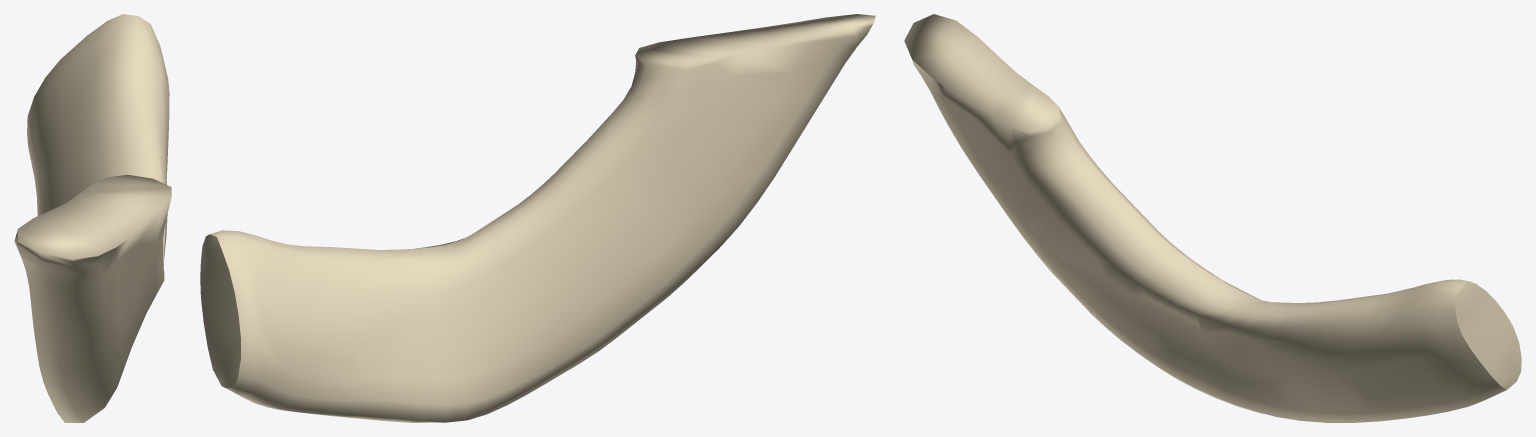
File: esqueleto-costal-cartilage-of-tenth-rib-l.glb
3 views of the same model, side by side, from view 1: azimuth 30°, elevation 25°; view 2: azimuth 150°, elevation 25°; view 3: azimuth 270°, elevation 25° (orthographic). The views are drawn at different scales.
Visible parts, largest first — view 1: Costal cartilage of tenth rib.l; view 2: Costal cartilage of tenth rib.l; view 3: Costal cartilage of tenth rib.l.
Part boxes in pixels (x1,y1,x2,y2): Costal cartilage of tenth rib.l: [14, 14, 171, 422]; Costal cartilage of tenth rib.l: [200, 14, 875, 422]; Costal cartilage of tenth rib.l: [904, 14, 1521, 422].
Size of the model in its own units: 0.0471 by 0.0359 by 0.0674.
